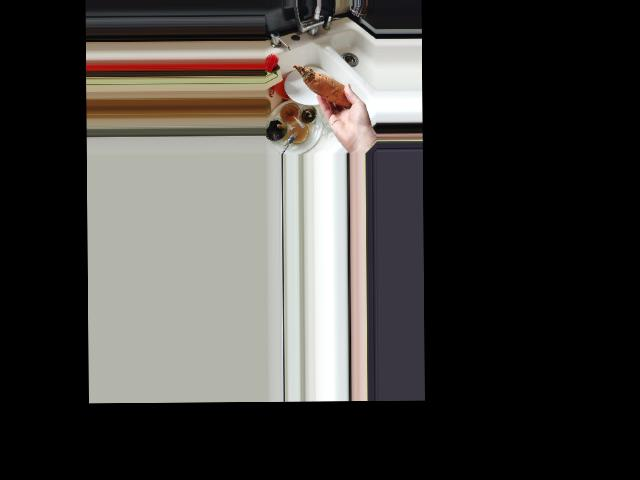sweet_potato: (291, 64, 356, 112)
